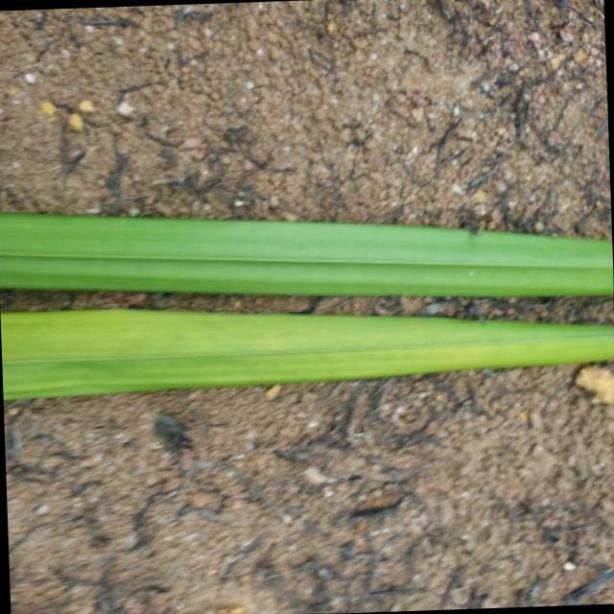nitrogen: (0, 308, 614, 400), (5, 208, 614, 297)
